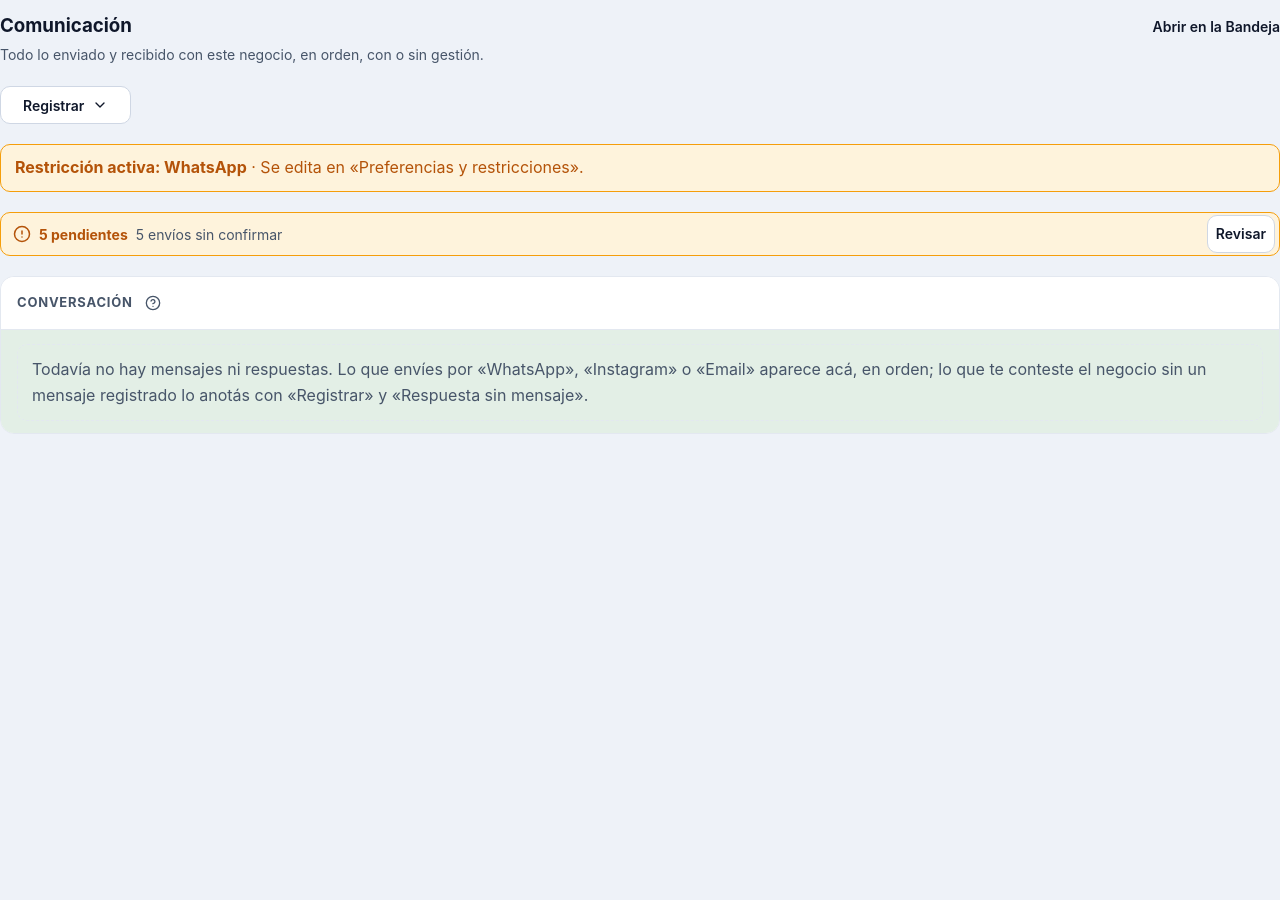
Test: Bulk «Sí, se enviaron» / «No se enviaron» (spec 100 §8, D3) › gives every answerable open an unchecked box and the bar «Seleccionar todos (N)»; the bar buttons count the selection
This screenshot has width=1280, height=900.
Expected: the element "Conversación" is shown, x1=0 y1=276 x2=1279 y2=434
Click the button "Revisar" at (1241, 234), box x1=1207 y1=215 x2=1275 y2=253
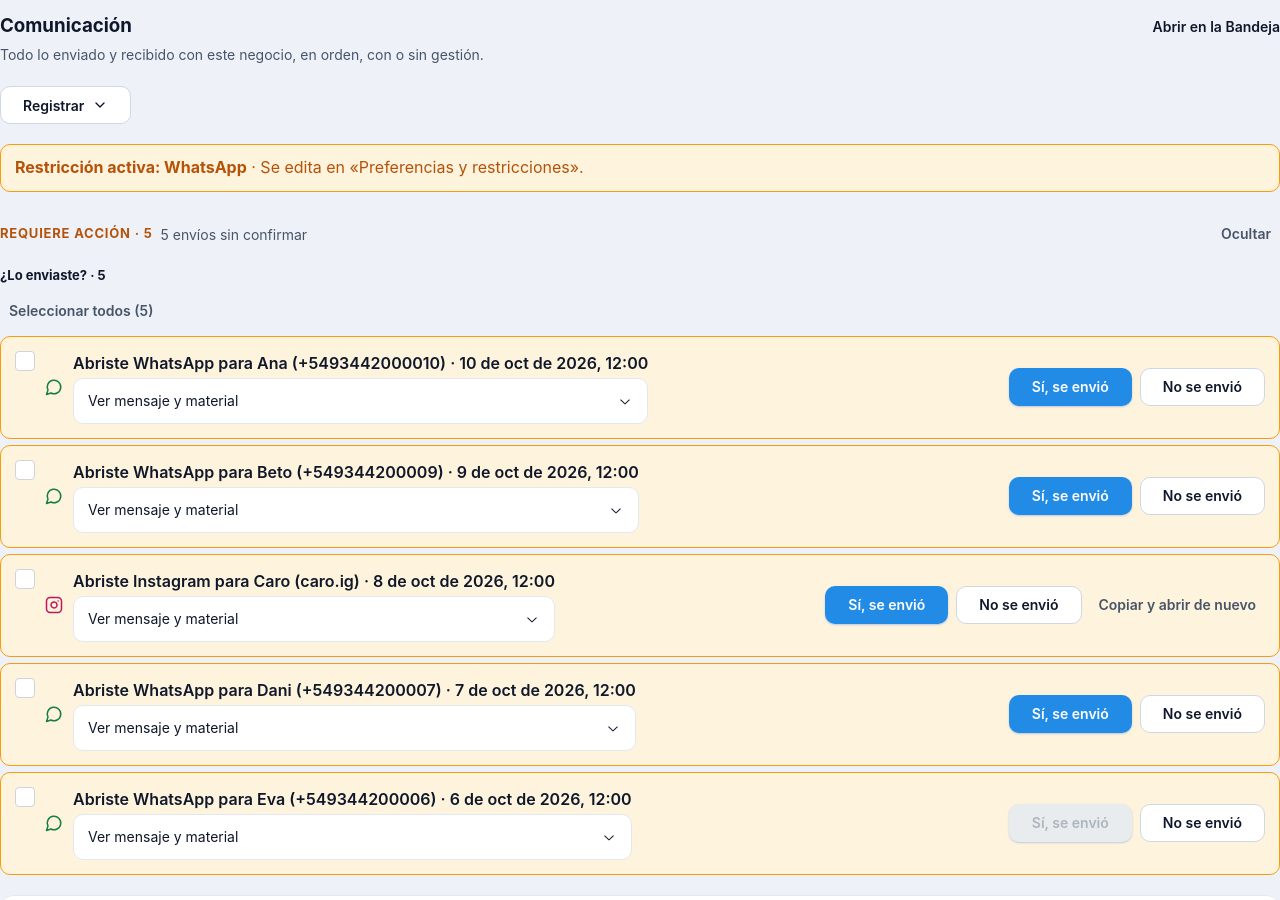
Now the heading "Requiere acción · 5" is shown, box x1=0 y1=224 x2=152 y2=244
Now the checkbox named "Seleccionar WhatsApp para Ana" is not checked
Now the checkbox named "Seleccionar WhatsApp para Beto" is not checked, box x1=15 y1=460 x2=35 y2=480
Click the checkbox named "Seleccionar WhatsApp para Ana" at (25, 361), box x1=15 y1=351 x2=35 y2=371
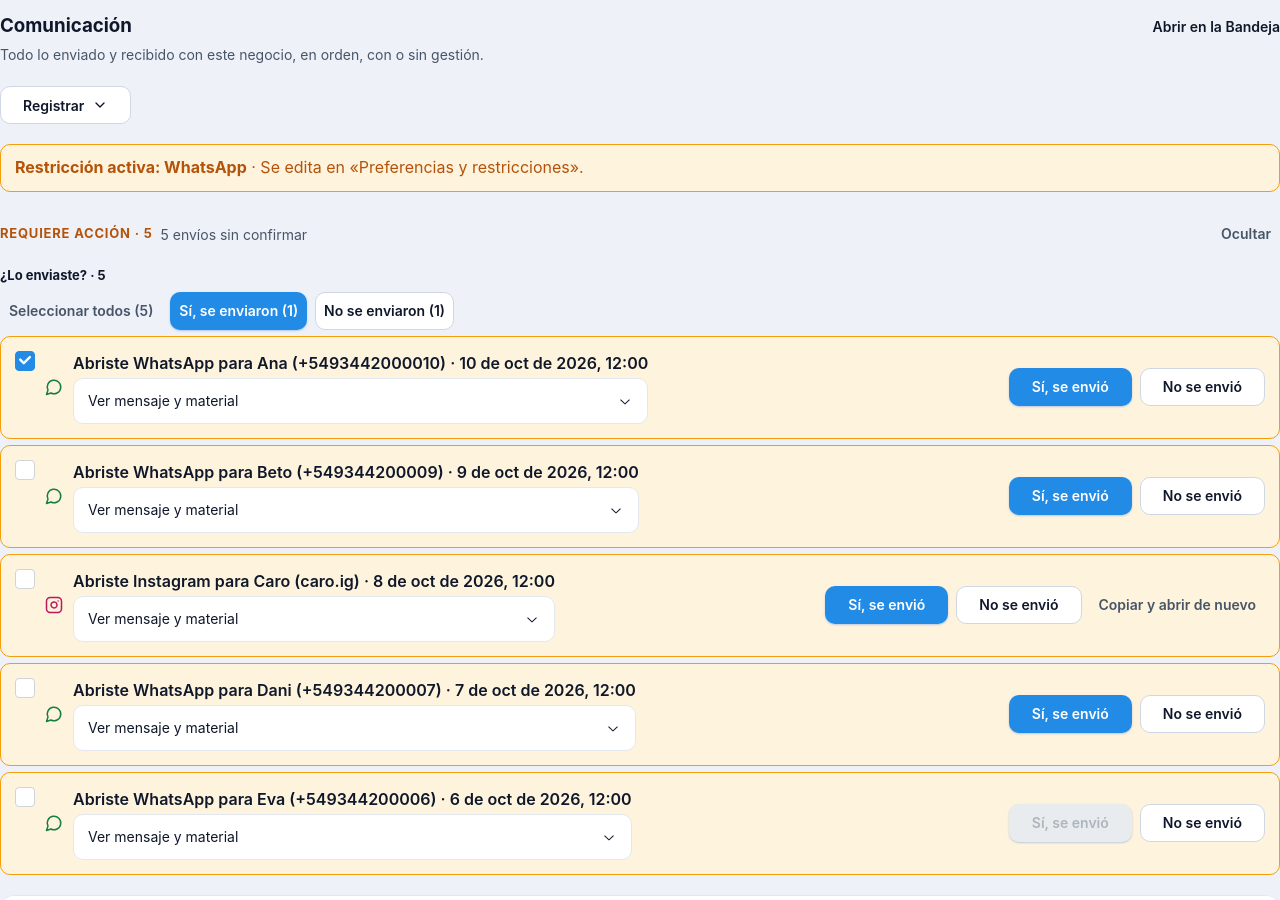
Click the checkbox named "Seleccionar Instagram para Caro" at (25, 579), box x1=15 y1=569 x2=35 y2=589
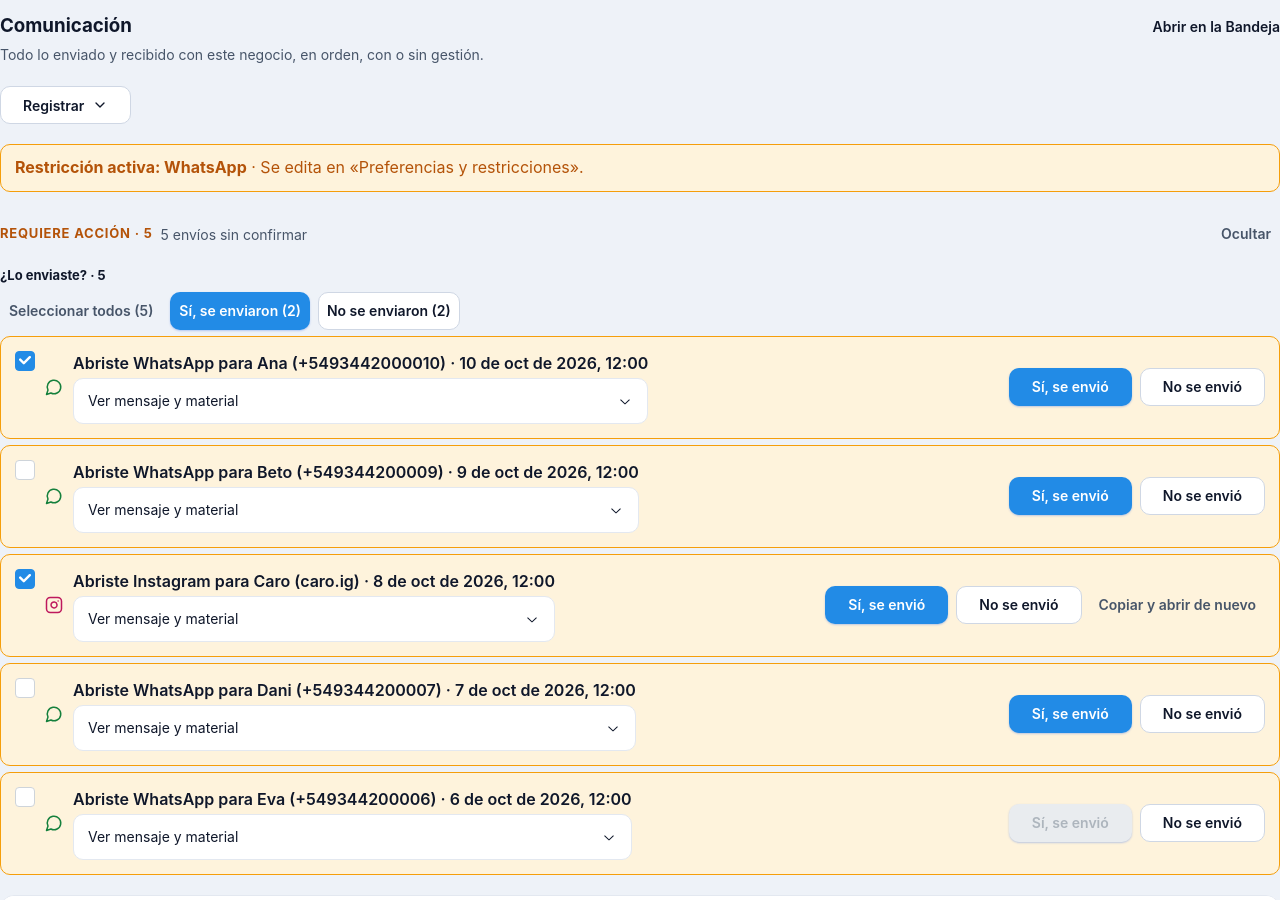
Now the button "Sí, se enviaron (2)" is shown, box x1=170 y1=292 x2=310 y2=330
Now the button "No se enviaron (2)" is shown, box x1=318 y1=292 x2=460 y2=330
Click the button "Seleccionar todos (5)" at (81, 311), box x1=0 y1=292 x2=162 y2=330
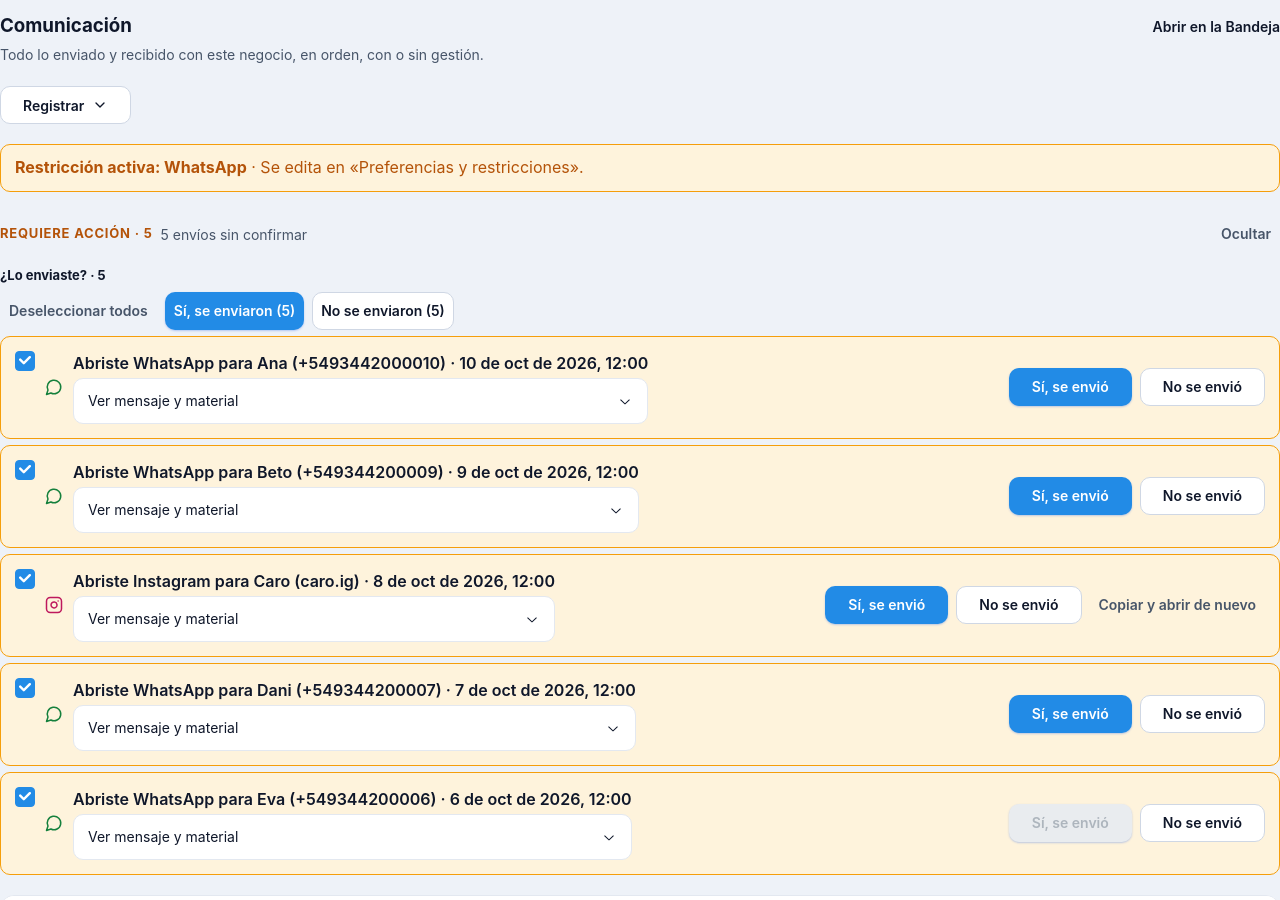
Now the checkbox named "Seleccionar WhatsApp para Ana" is checked, box x1=15 y1=351 x2=35 y2=371
Now the button "Sí, se enviaron (5)" is shown, box x1=165 y1=292 x2=304 y2=330
Now the checkbox named "Seleccionar WhatsApp para Beto" is checked, box x1=15 y1=460 x2=35 y2=480
